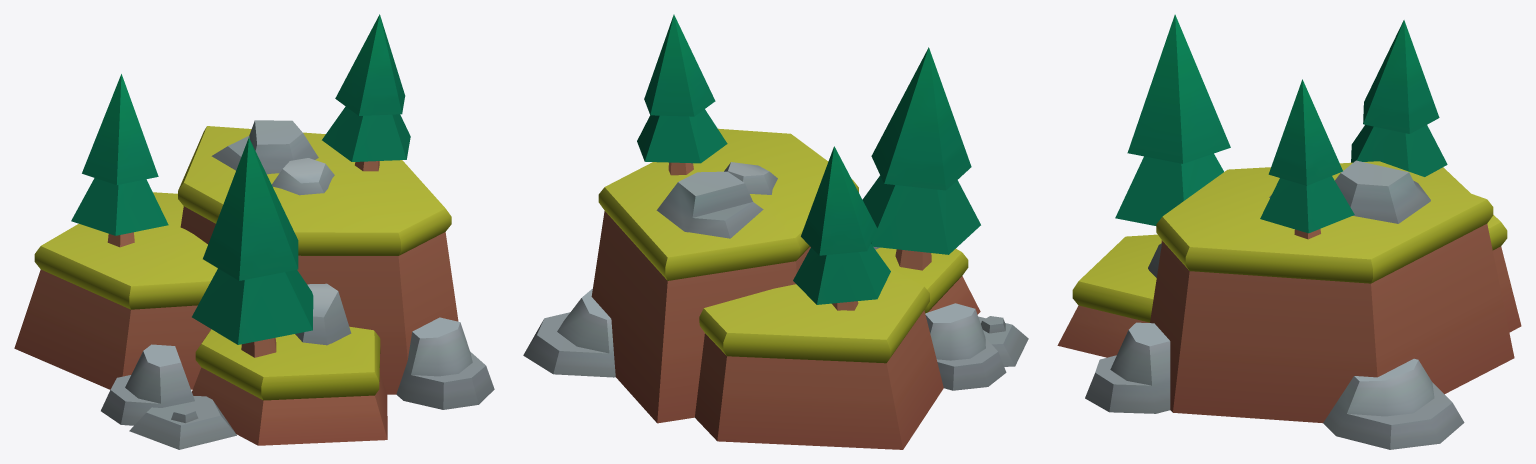
The model's file is hills_A_trees.glb.
The picture shows the model from 3 angles, left to right: view 1: azimuth 30°, elevation 25°; view 2: azimuth 150°, elevation 25°; view 3: azimuth 270°, elevation 25°; orthographic projection. The views are drawn at different scales.
Parts seen in each view (by area): view 1: hills_A_trees; view 2: hills_A_trees; view 3: hills_A_trees.
Boxes of the visible parts, x1=… form: hills_A_trees: x1=14, y1=14, x2=494, y2=449; hills_A_trees: x1=523, y1=14, x2=1028, y2=449; hills_A_trees: x1=1057, y1=14, x2=1521, y2=449.
Size of the model in its own units: 1.76 by 1.33 by 1.74.
1 material, 1 textured.
